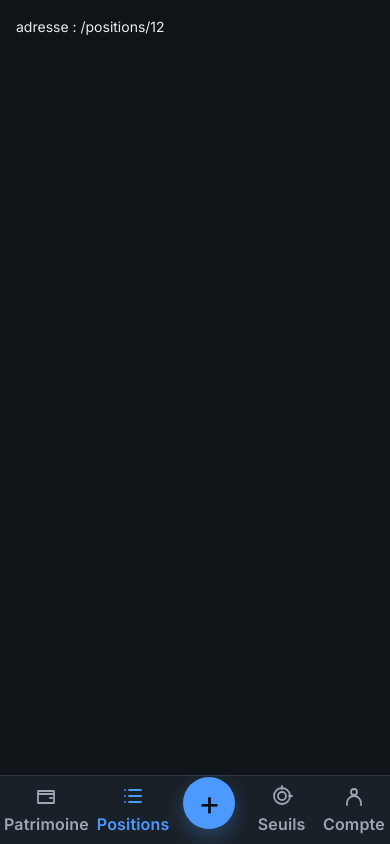
Test: bouton de saisie de la barre mobile › vaut aussi pour le détail d’une position
Click the button named "Nouveau mouvement": (210, 803) [184,777,236,829]
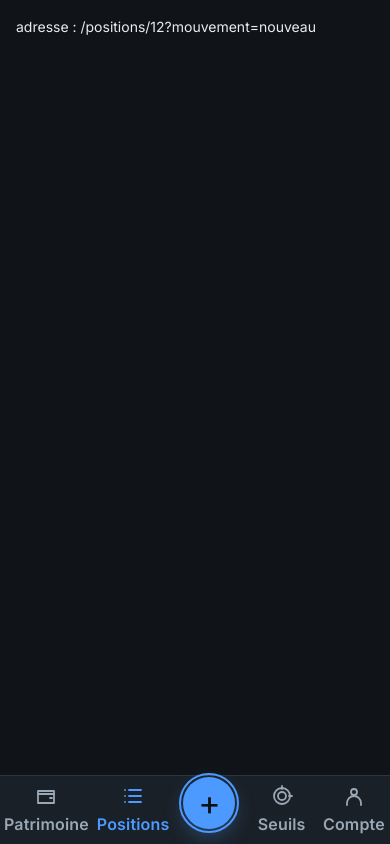
Check: the text "adresse : /positions/12?mouvement=nouveau" is shown, box [16,18,316,35]
